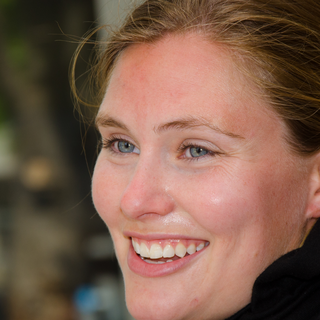eye: (169, 138, 222, 166), (100, 131, 147, 162)
